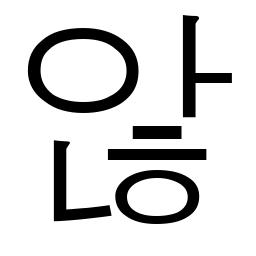Gaji: (167, 55, 210, 98)
